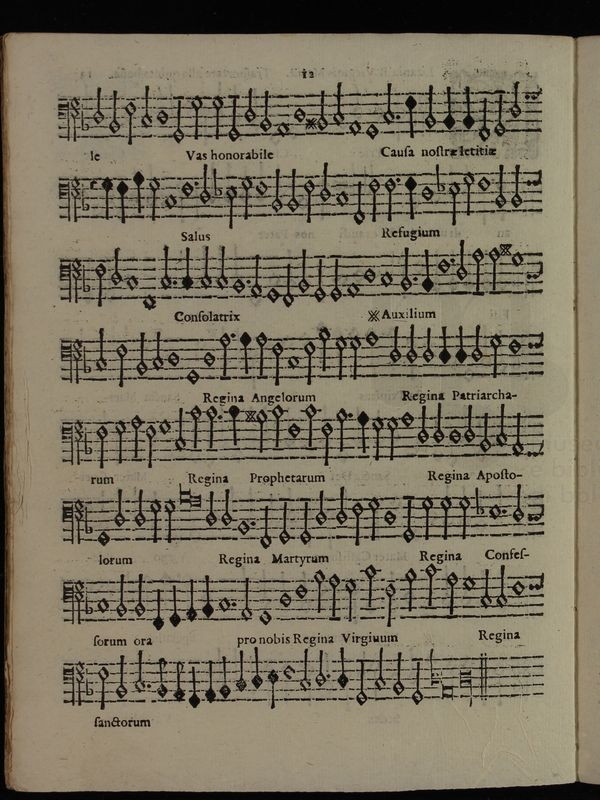custos_5: (527, 551, 552, 600)
f clef_5: (55, 572, 82, 630)
flat_9: (80, 584, 93, 618)
minim_1: (362, 560, 378, 612), (423, 561, 438, 611)
minim_10: (238, 571, 254, 625)
minim_2: (309, 568, 327, 615), (401, 564, 417, 616)
minim_3: (443, 567, 459, 619), (326, 567, 341, 621)
minim_4: (342, 573, 356, 623)
minim_5: (383, 577, 397, 631)
minim_8: (494, 560, 510, 613), (478, 563, 493, 614)
minim_9: (130, 568, 147, 622), (113, 569, 129, 621)
point: (225, 594, 240, 613)
semibreve_11: (256, 603, 274, 631)
semibreve_4: (459, 568, 478, 598)
semibreve_5: (509, 573, 527, 602), (293, 575, 309, 604)
semibreve_7: (275, 584, 294, 614)
semibreve_8: (94, 590, 112, 619), (215, 590, 231, 617)
semiminim_10: (183, 574, 199, 627)
semiminim_11: (167, 578, 182, 632)
semiminim_12: (150, 581, 165, 633)
semiminim_9: (199, 570, 214, 623)
